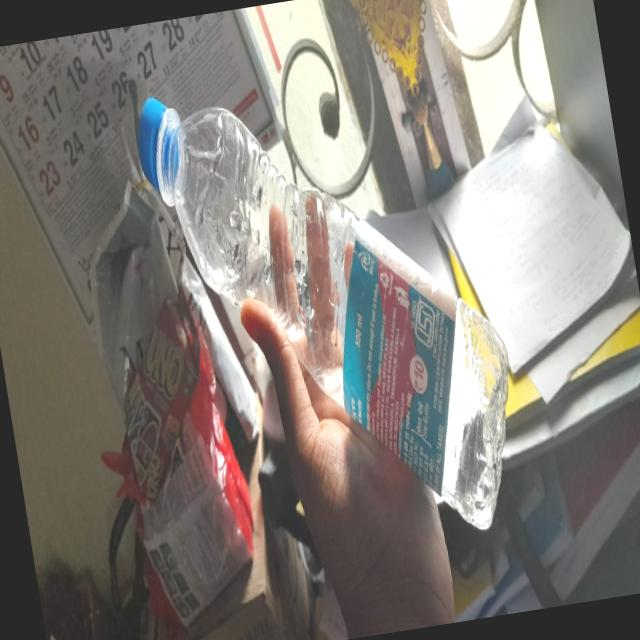Plastic - Recyclable: (128, 41, 536, 577)
